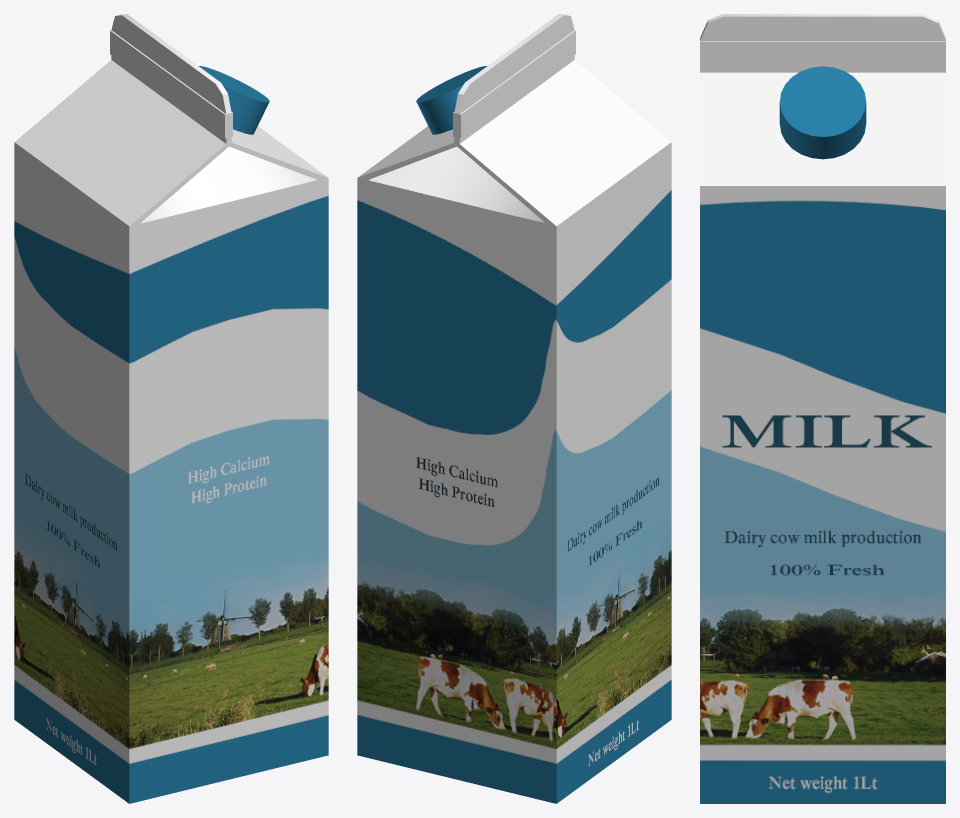
Rendered from Milk Carton 1.FBX.
3 renders of one model, left to right at view 1: azimuth 30°, elevation 25°; view 2: azimuth 150°, elevation 25°; view 3: azimuth 270°, elevation 25°, orthographic. The views are drawn at different scales.
Visible parts, largest first — view 1: MilkCarton; view 2: MilkCarton; view 3: MilkCarton.
Part boxes in pixels (<box>): MilkCarton: <box>14,14,328,803</box>; MilkCarton: <box>357,14,671,803</box>; MilkCarton: <box>700,14,945,803</box>.
Size of the model in its own units: 0.07 by 0.2313 by 0.07.
